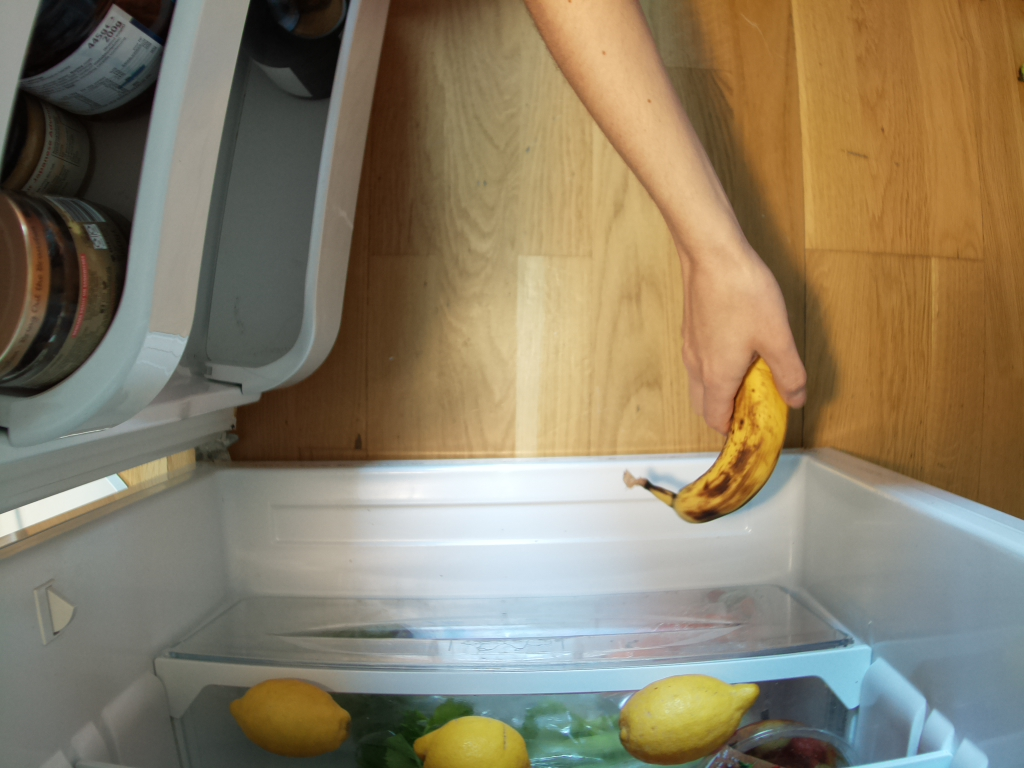banana-overripe: (622, 349, 787, 521)
